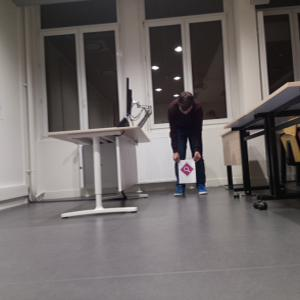search: (181, 162, 193, 176)
